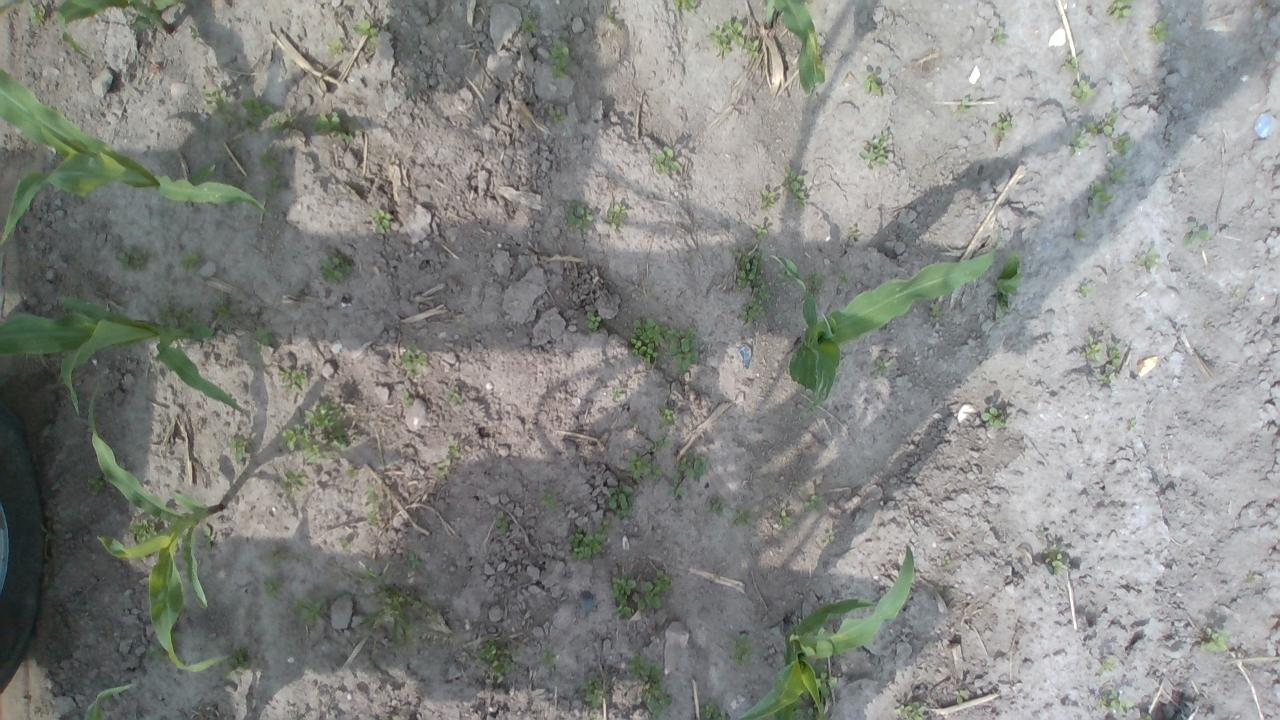Maize: (0, 62, 273, 246), (82, 379, 234, 674), (772, 230, 1002, 420), (733, 543, 915, 720), (0, 294, 251, 417), (0, 0, 187, 60), (758, 0, 824, 96), (80, 684, 213, 720)
Weeds: (352, 561, 432, 660), (276, 400, 350, 464), (201, 86, 274, 137), (730, 244, 771, 322), (626, 651, 672, 720), (152, 296, 214, 339), (991, 251, 1024, 319), (667, 447, 707, 500), (307, 109, 360, 146), (476, 636, 520, 679), (568, 518, 610, 562), (630, 317, 669, 363), (258, 145, 290, 198), (666, 328, 700, 373), (637, 568, 671, 611), (608, 570, 636, 620), (292, 592, 330, 628), (110, 240, 150, 274), (708, 18, 742, 56), (625, 450, 665, 482), (859, 128, 890, 168), (780, 164, 808, 208), (317, 252, 354, 284), (811, 657, 838, 699), (564, 199, 596, 234), (1080, 108, 1118, 137), (728, 631, 757, 668), (547, 36, 571, 80), (580, 675, 610, 710), (400, 343, 430, 377), (130, 514, 162, 545), (276, 365, 310, 394), (1098, 344, 1122, 384), (790, 688, 820, 720), (607, 485, 636, 518), (268, 111, 302, 138), (280, 468, 310, 498), (651, 146, 682, 175), (1198, 626, 1230, 654), (219, 654, 252, 681), (1088, 180, 1112, 216), (1098, 689, 1136, 711), (802, 271, 826, 305), (363, 484, 382, 526), (214, 300, 244, 326), (1145, 17, 1173, 44), (351, 18, 378, 46), (1064, 127, 1090, 156), (730, 504, 759, 530), (1106, 0, 1136, 25), (1182, 221, 1212, 246), (988, 110, 1014, 138), (250, 326, 276, 354), (366, 207, 394, 233), (981, 406, 1011, 430), (1044, 544, 1068, 574), (698, 698, 730, 720), (176, 250, 203, 276), (858, 70, 883, 98), (229, 436, 255, 462), (894, 699, 926, 720), (1081, 334, 1103, 364), (1070, 80, 1096, 104), (262, 572, 286, 598), (604, 204, 628, 228), (1110, 132, 1132, 158), (537, 647, 558, 673), (146, 640, 169, 663), (656, 405, 677, 430), (1138, 248, 1160, 270), (520, 13, 540, 37), (707, 497, 729, 518), (1106, 161, 1126, 184), (647, 435, 672, 453), (1097, 655, 1118, 676), (774, 510, 796, 530), (538, 490, 558, 512), (1059, 54, 1083, 72), (666, 0, 702, 12), (494, 510, 511, 535), (928, 302, 947, 324), (954, 96, 974, 115), (872, 358, 891, 377), (803, 494, 824, 511), (759, 188, 776, 209), (992, 24, 1008, 46), (263, 550, 282, 568), (28, 1, 42, 25), (778, 266, 794, 286), (437, 458, 452, 479), (446, 387, 464, 404), (584, 312, 601, 330), (407, 550, 424, 568), (746, 39, 760, 60), (188, 23, 205, 40), (951, 689, 969, 705), (327, 40, 343, 57), (548, 109, 568, 122), (1079, 283, 1096, 298), (755, 222, 768, 241), (448, 438, 460, 458), (402, 389, 414, 408), (610, 386, 625, 401), (836, 270, 850, 286), (1072, 228, 1088, 240), (942, 554, 954, 570), (170, 630, 186, 640), (827, 531, 838, 544), (1230, 287, 1242, 298), (1036, 526, 1047, 538), (606, 8, 616, 20), (1128, 418, 1138, 429), (340, 540, 351, 550), (793, 480, 804, 489), (160, 275, 169, 285), (1140, 714, 1153, 720)
